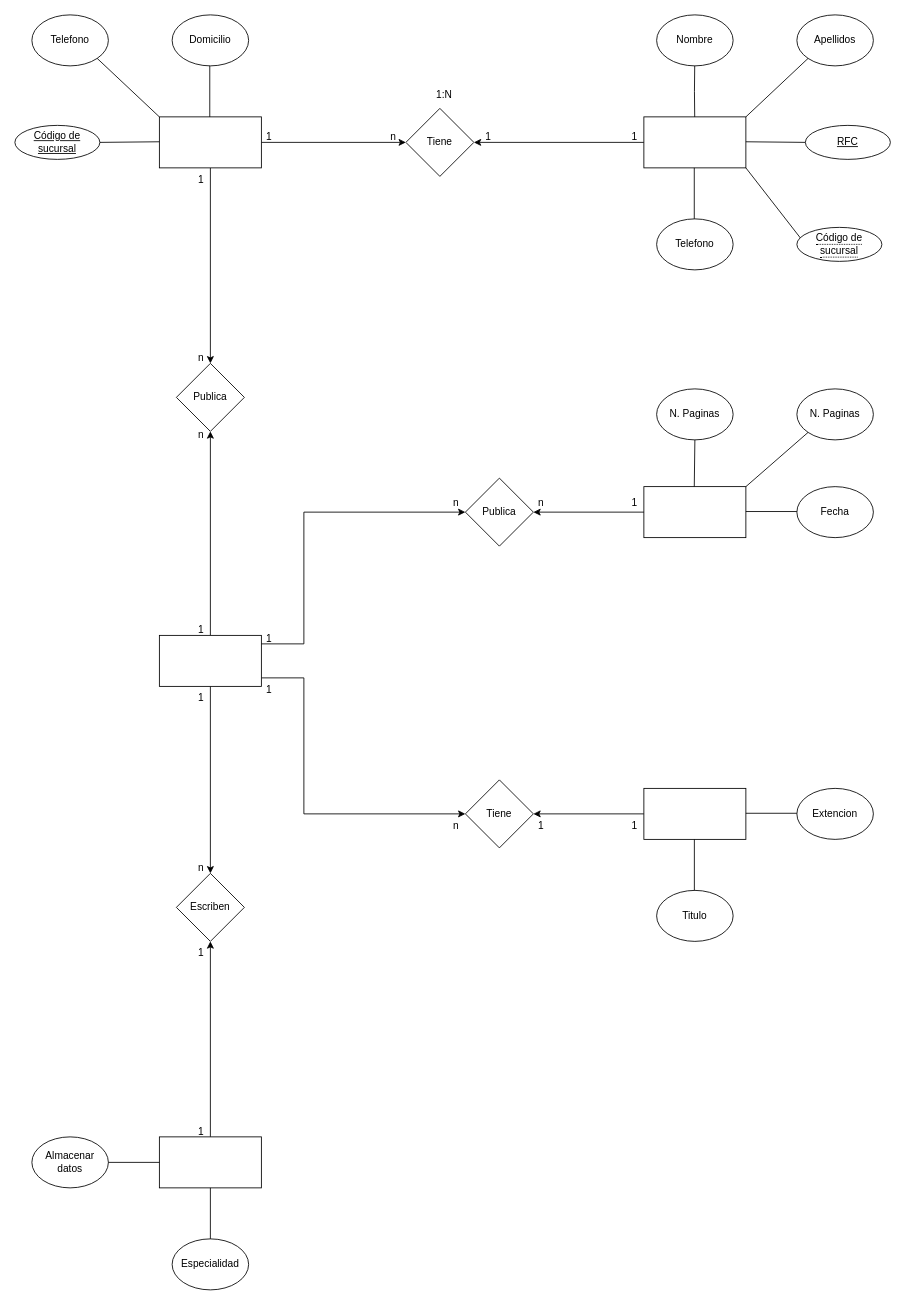
The diagram is 905 pixels wide and 1305 high, and some of its shapes have lost their labels. The shapes that lost their labels are listed below. From the top down, each one's centre as x and y in pixels, then its label:
the point at 210,142: Sucursal
the point at 694,142: Empleao
the point at 694,512: Ejemplar
the point at 210,660: Revista
the point at 694,813: Secciones
the point at 210,1162: Periodistas
